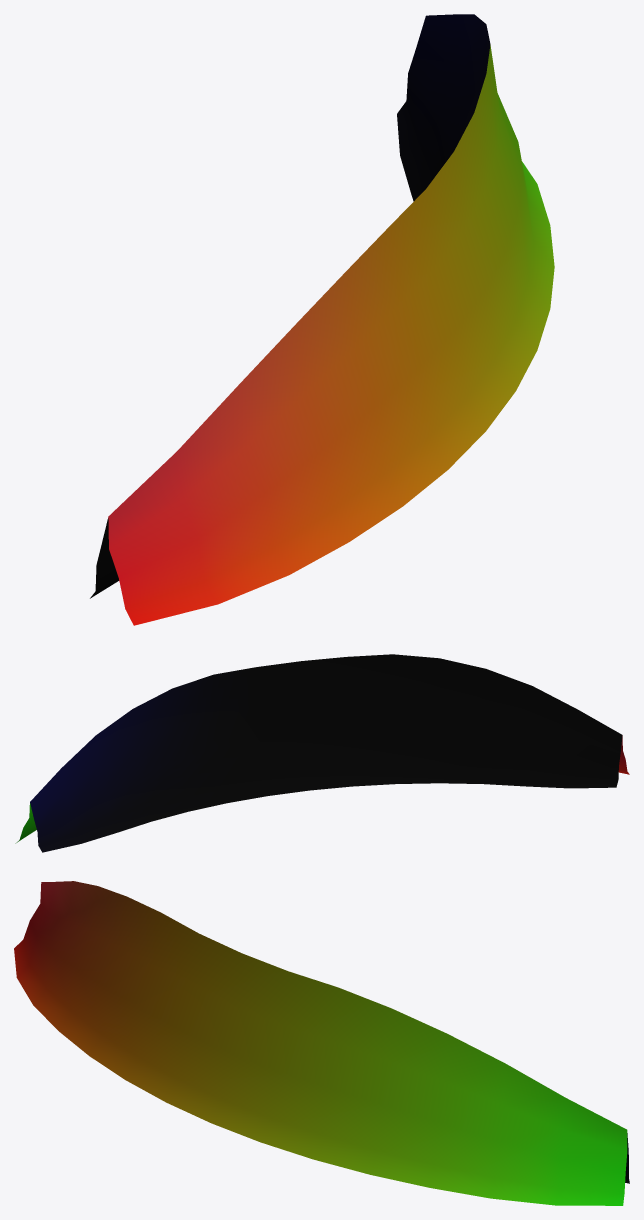
Rendered from uni_arc_high.fbx.
3 views of the same model, one above another, from view 1: azimuth 30°, elevation 25°; view 2: azimuth 150°, elevation 25°; view 3: azimuth 270°, elevation 25° (orthographic). The views are drawn at different scales.
Visible parts, largest first — view 1: uni_arc_high; view 2: uni_arc_high; view 3: uni_arc_high.
Part boxes in pixels (box(x1,y1,x2,y2)): uni_arc_high: box(90, 14, 554, 625); uni_arc_high: box(15, 654, 629, 852); uni_arc_high: box(14, 881, 629, 1205).
Bounding box in the file's own units: 17054 × 17053 × 4802.
